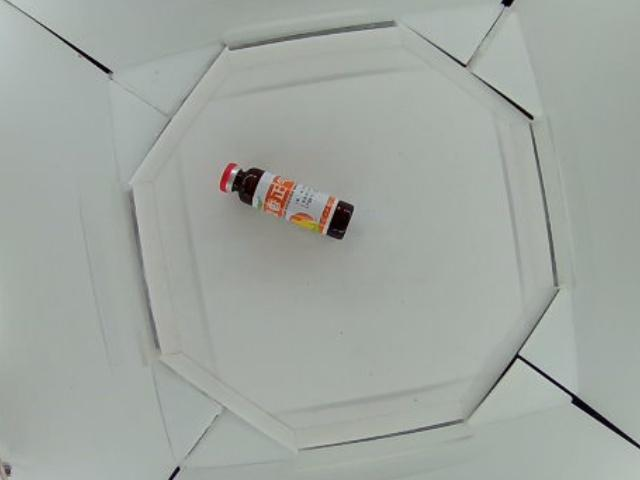Medicine: (218, 160, 356, 240)
